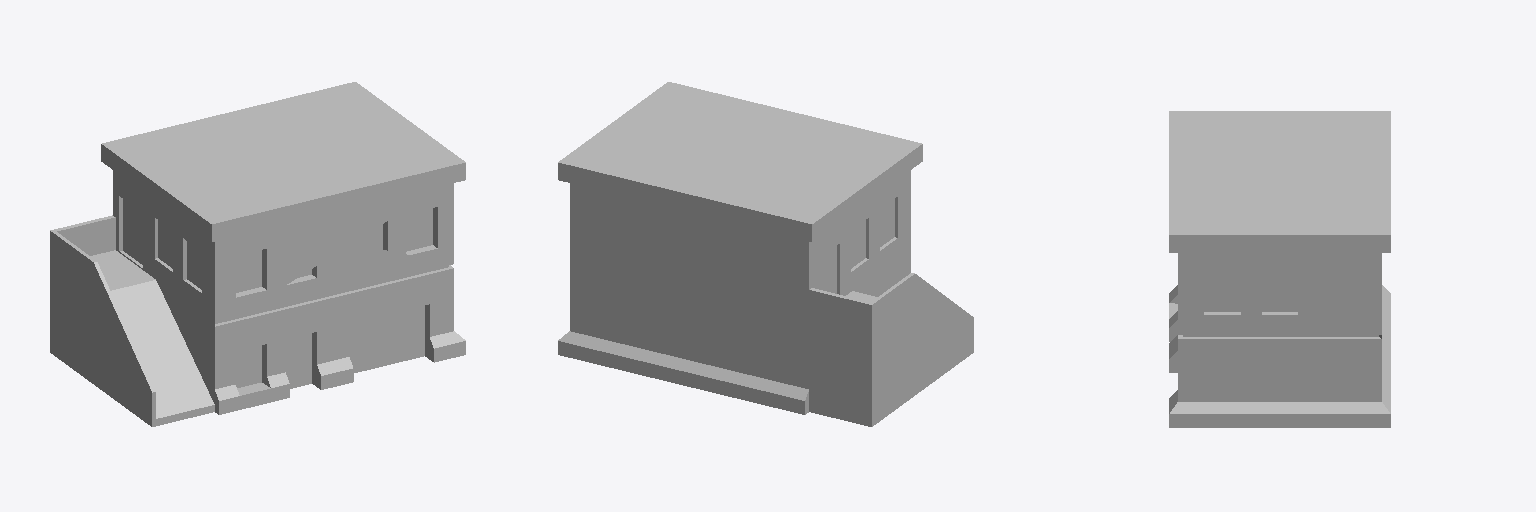
The model's file is house.obj.
The picture shows the model from 3 angles: view 1: azimuth 30°, elevation 25°; view 2: azimuth 150°, elevation 25°; view 3: azimuth 270°, elevation 25°; orthographic projection.
Parts seen in each view (by area): view 1: house2; view 2: house2; view 3: house2.
Boxes of the visible parts, x1,y1,x2,y2 form: house2: [50, 82, 465, 426]; house2: [558, 82, 973, 426]; house2: [1169, 111, 1390, 427].
Size of the model in its own units: 584 by 347 by 361.